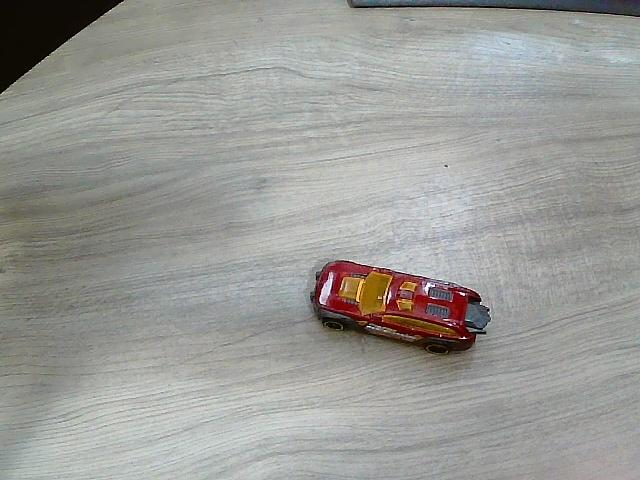Carro: (312, 262, 490, 352)
